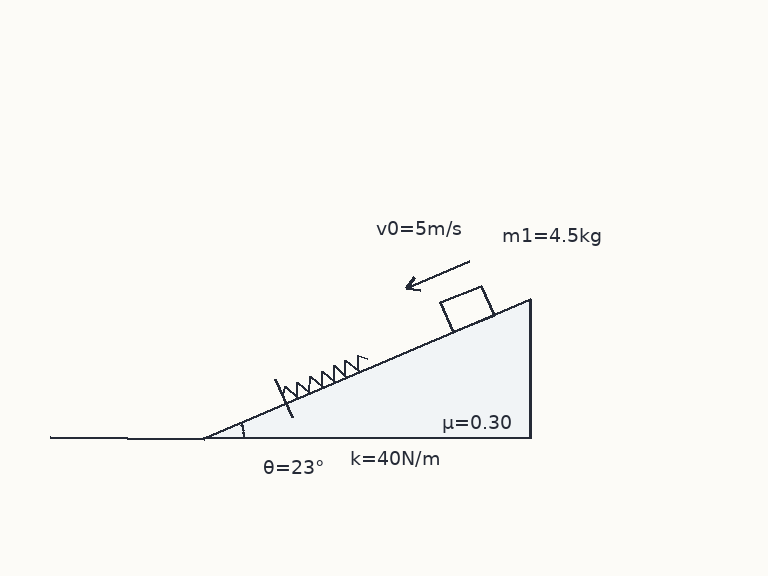block: (439, 283, 496, 334)
ramp: (202, 298, 532, 440)
spring: (280, 353, 369, 398)
